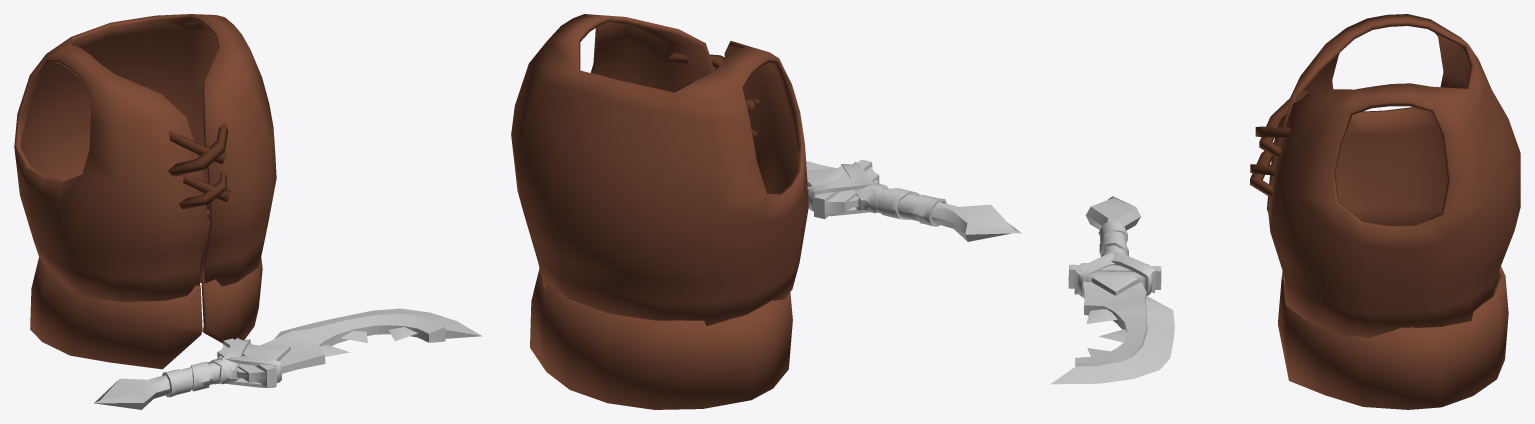
Rendered from kilic3zırh1.fbx.
The picture shows the model from 3 angles, left to right: view 1: azimuth 30°, elevation 25°; view 2: azimuth 150°, elevation 25°; view 3: azimuth 270°, elevation 25°; orthographic projection. The views are drawn at different scales.
Visible parts, largest first — view 1: Plane.001, Plane.005; view 2: Plane.001, Plane.005; view 3: Plane.001, Plane.005.
Part boxes in pixels (x1,y1,x2,y2): Plane.001: [14, 14, 276, 369]; Plane.005: [94, 308, 482, 409]; Plane.001: [511, 14, 808, 409]; Plane.005: [806, 159, 1021, 241]; Plane.001: [1250, 14, 1520, 409]; Plane.005: [1050, 196, 1174, 384].
Size of the model in its own units: 163 by 124 by 171.
